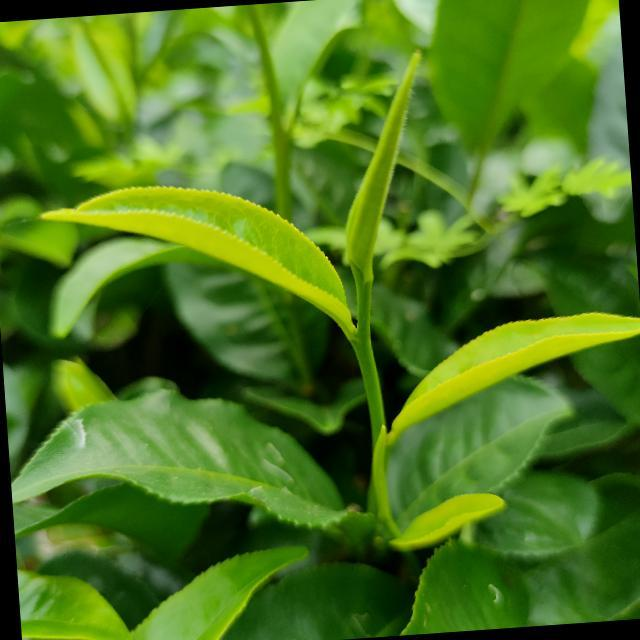Stem: (348, 332, 373, 359)
